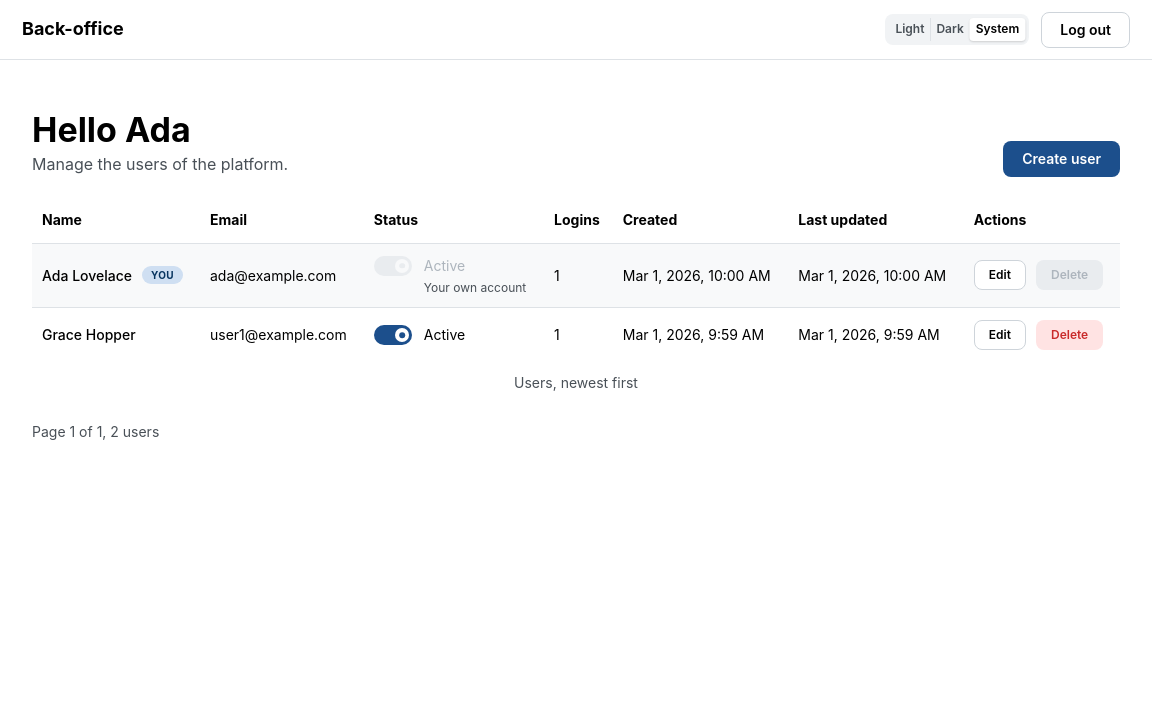
Test case: dashboard: create, edit, status, delete › DASH-40 toggles the status immediately with its own request
Expected: the table is shown, [32,197,1120,394]
Click the switch named "Active: Grace Hopper" at (393, 335), box [374,325,465,345]
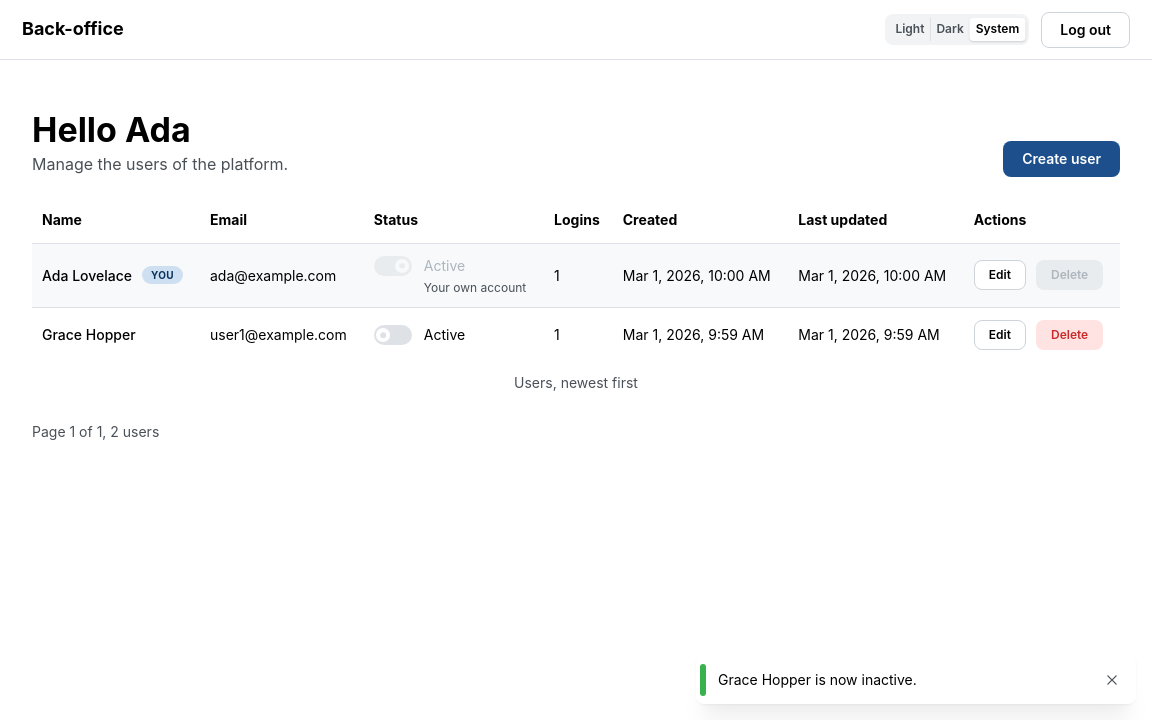
Expected: the switch named "Active: Grace Hopper" is not checked, [374,325,465,345]
Expected: the text "Grace Hopper is now inactive." is shown, [718,671,917,688]
